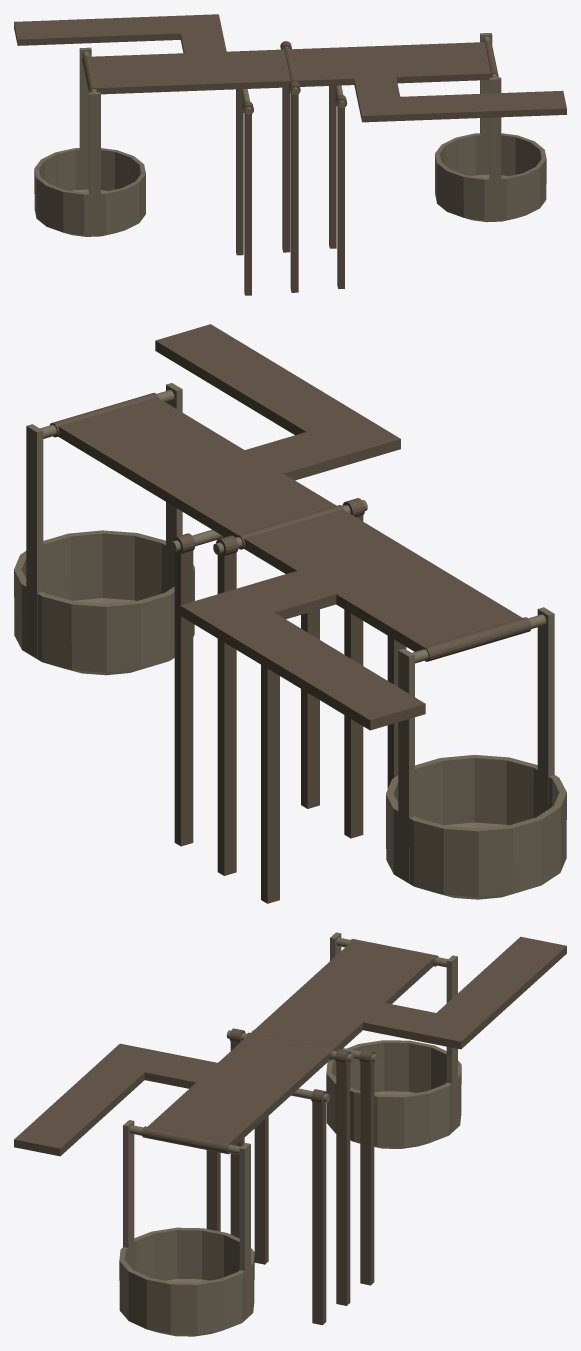
Rendered from trick3_balance.fbx.
3 renders of one model, top to bottom at view 1: azimuth 30°, elevation 25°; view 2: azimuth 150°, elevation 25°; view 3: azimuth 270°, elevation 25°, orthographic. The views are drawn at different scales.
Visible parts, largest first — view 1: balance_3, basket, basket_2, support0, support_1_2, support_1; view 2: balance_3, basket, basket_2, support0, support_1, support_1_2, connect3; view 3: balance_3, basket_2, basket, support_1_2, support0, support_1, connect2.
Boxes of the visible parts, x1,y1,x2,y2 form: balance_3: (14, 14, 566, 122); basket: (34, 47, 145, 236); basket_2: (435, 33, 546, 222); support0: (280, 41, 300, 292); support_1_2: (236, 89, 253, 295); support_1: (329, 85, 347, 288); balance_3: (58, 324, 522, 730); basket: (386, 607, 566, 899); basket_2: (14, 383, 194, 675); support0: (216, 498, 364, 875); support_1: (173, 533, 319, 846); support_1_2: (261, 636, 406, 903); connect3: (421, 617, 531, 661); balance_3: (14, 936, 566, 1156); basket_2: (119, 1120, 254, 1336); basket: (326, 932, 461, 1148); support_1_2: (254, 1049, 375, 1285); support0: (229, 1028, 351, 1305); support_1: (206, 1089, 327, 1325); connect2: (142, 1126, 231, 1154).
Size of the model in its own units: 1017 by 492 by 971.
